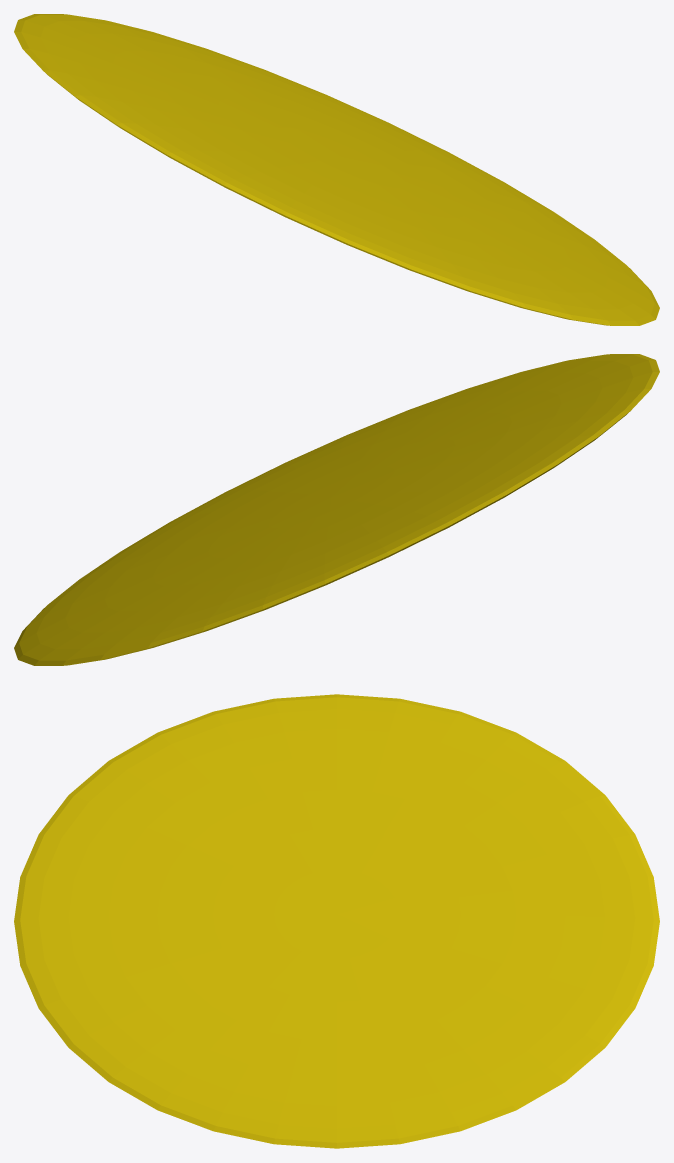
The model's file is sol5.obj.
The picture shows the model from 3 angles, top to bottom: view 1: azimuth 30°, elevation 25°; view 2: azimuth 150°, elevation 25°; view 3: azimuth 270°, elevation 25°; orthographic projection. The views are drawn at different scales.
Visible parts, largest first — view 1: Sphere_Sphere.001; view 2: Sphere_Sphere.001; view 3: Sphere_Sphere.001.
Part boxes in pixels (x1,y1,x2,y2): Sphere_Sphere.001: (14,14,659,325); Sphere_Sphere.001: (14,354,659,665); Sphere_Sphere.001: (14,694,659,1148).
Size of the model in its own units: 1.01 by 0.509 by 1.27.
